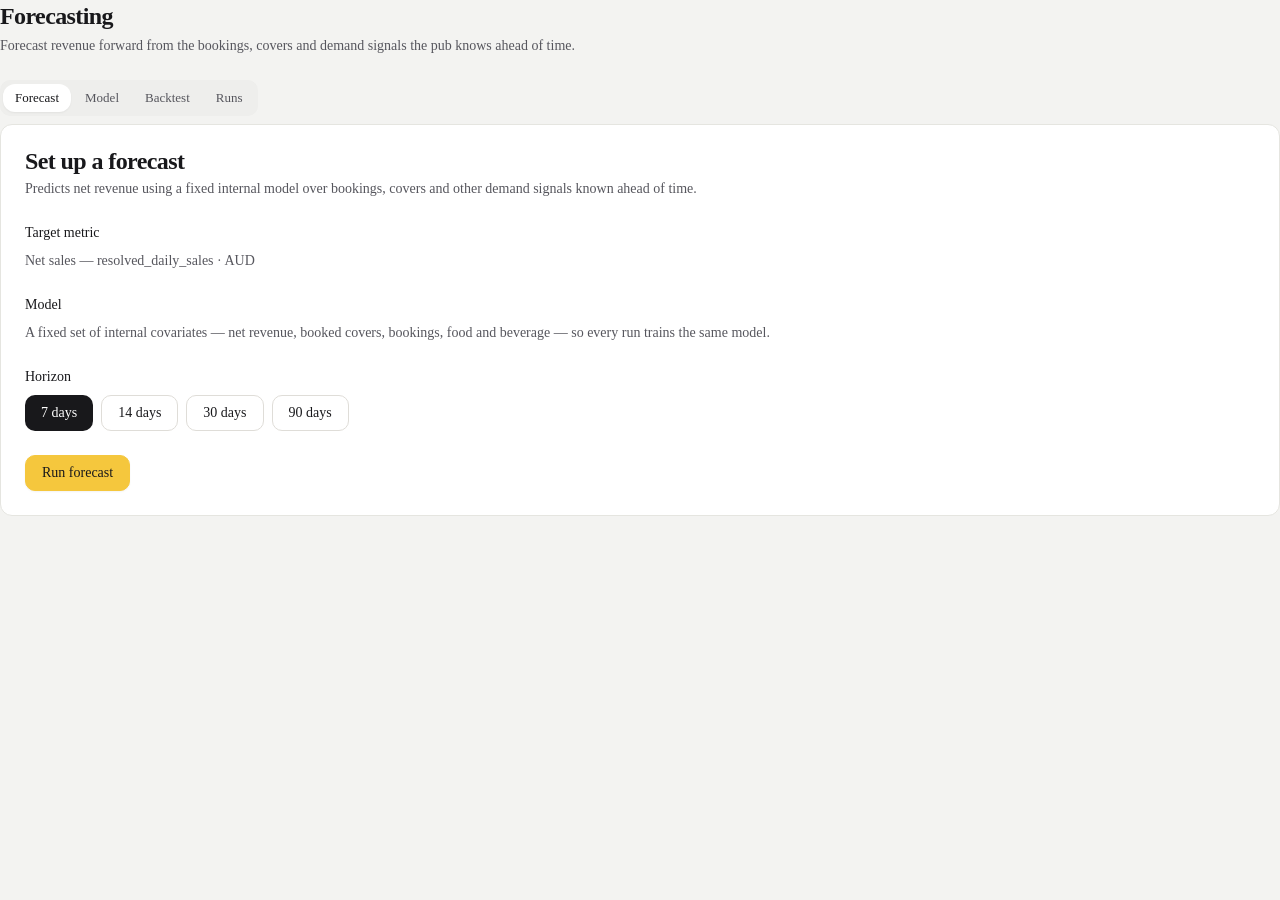
Test case: ForecastingPage › labels legacy fitted diagnostics and withholds the baseline endorsement
Expected: the text "Net sales — resolved_daily_sales · AUD" is shown, [25,253,255,268]
Click the button "Run forecast".
click(78, 473)  # box [25,455,130,491]
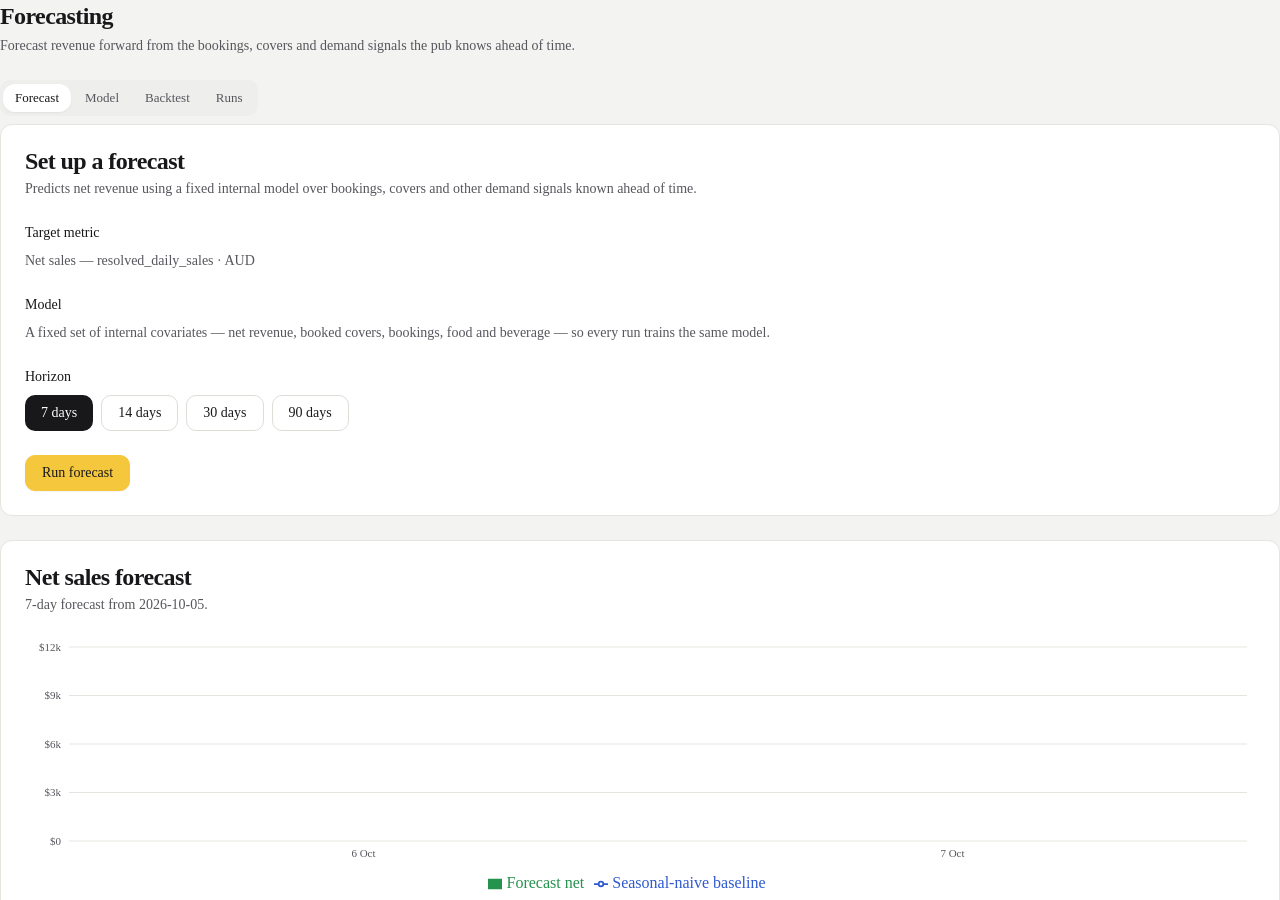
Now the picture with test id "forecast-vs-baseline-chart" is shown, box [25,639,1255,895]
Press the mouse on the tab "Model" at (102, 98), box [73,84,131,112]
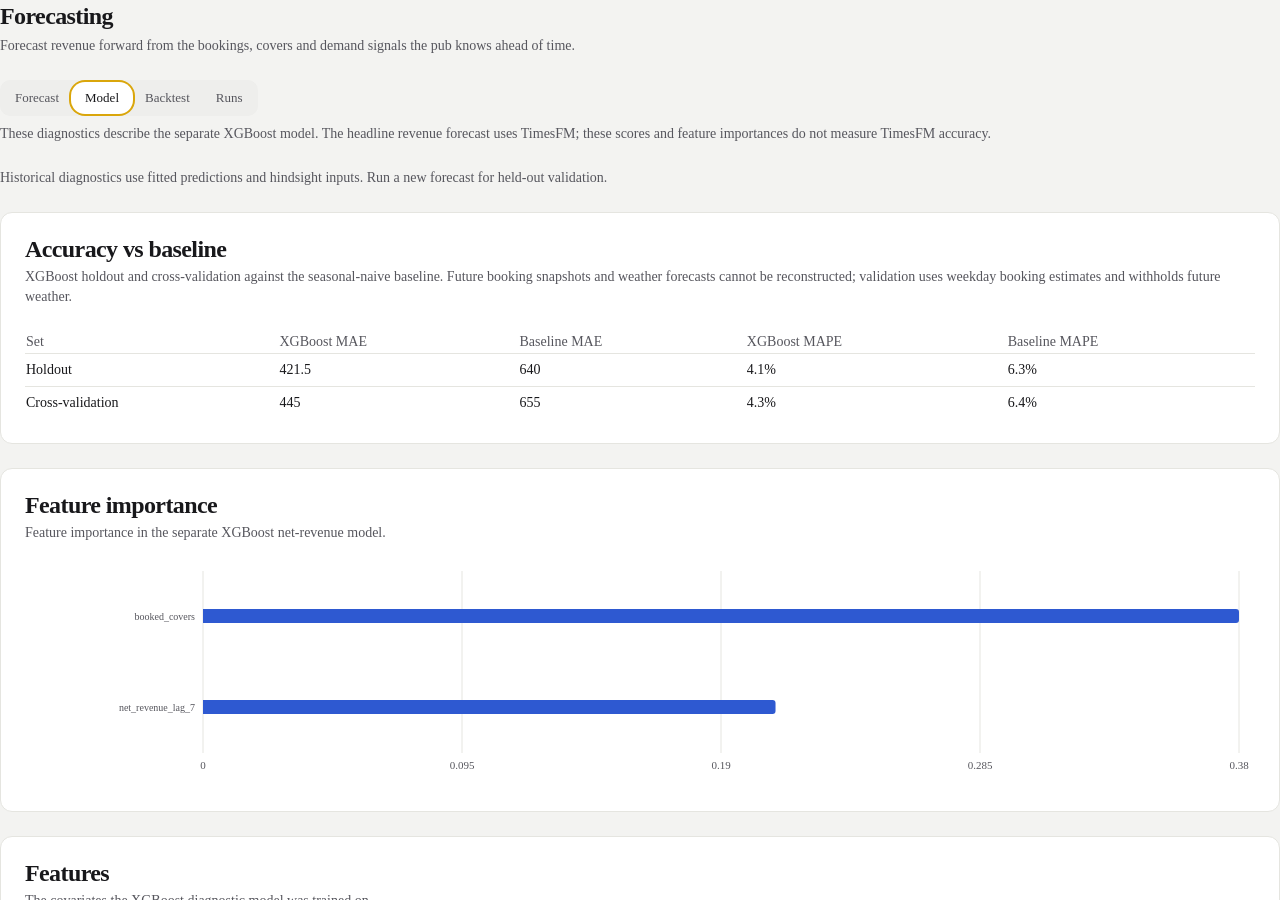
Now the text "Historical diagnostics use fitted predictions" is shown, box [0,170,607,185]
